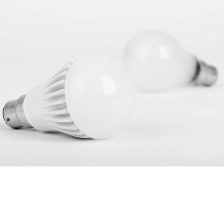light_bulb: (0, 51, 139, 143), (117, 24, 220, 95)
